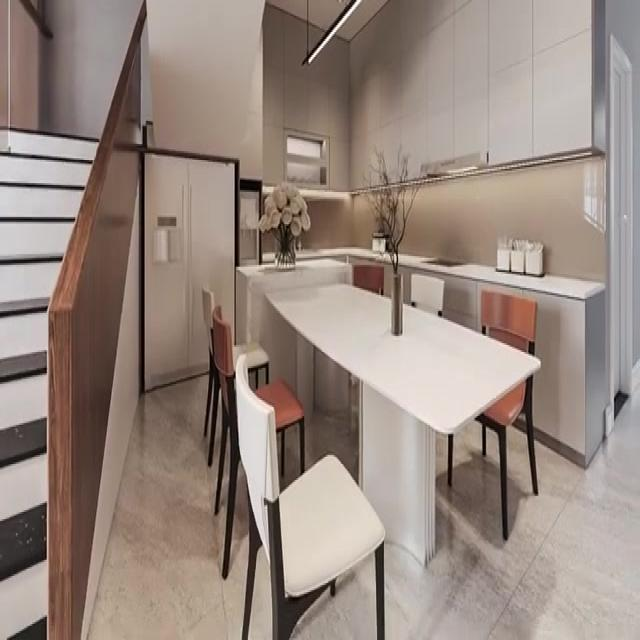obstacle: (263, 279, 541, 569), (233, 350, 385, 638), (447, 288, 539, 540)
